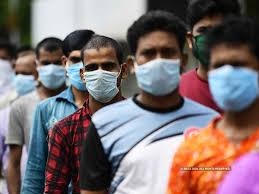Mask: (208, 65, 256, 106), (134, 58, 181, 94), (83, 67, 116, 98), (37, 62, 62, 87), (13, 71, 34, 93), (68, 62, 80, 88)
